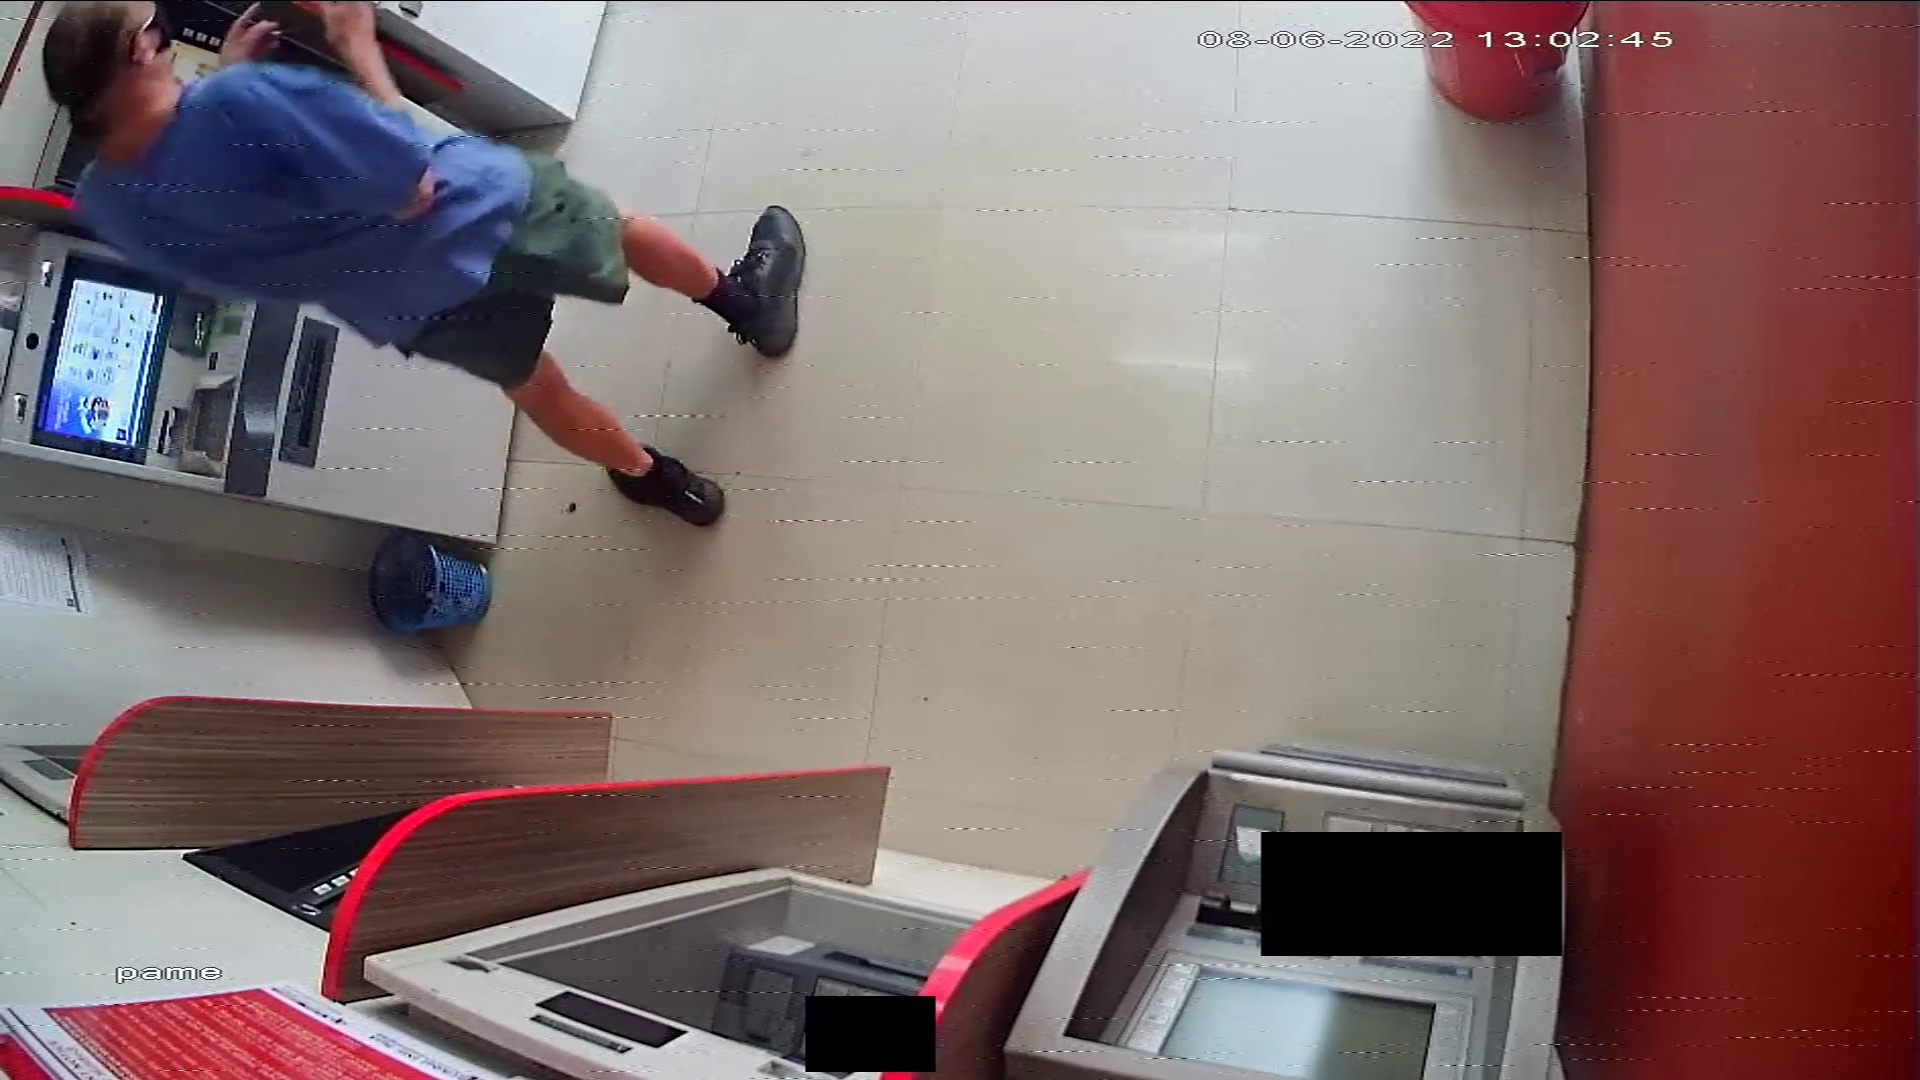person: (46, 5, 804, 525)
